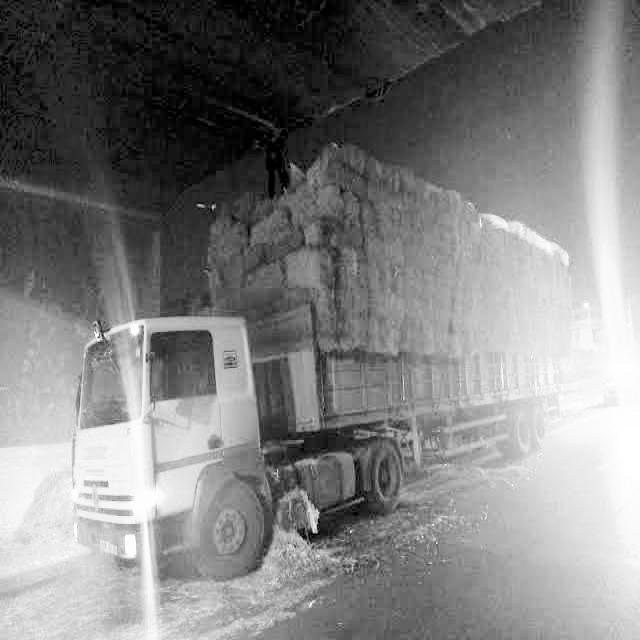Truck: (70, 139, 573, 581)
